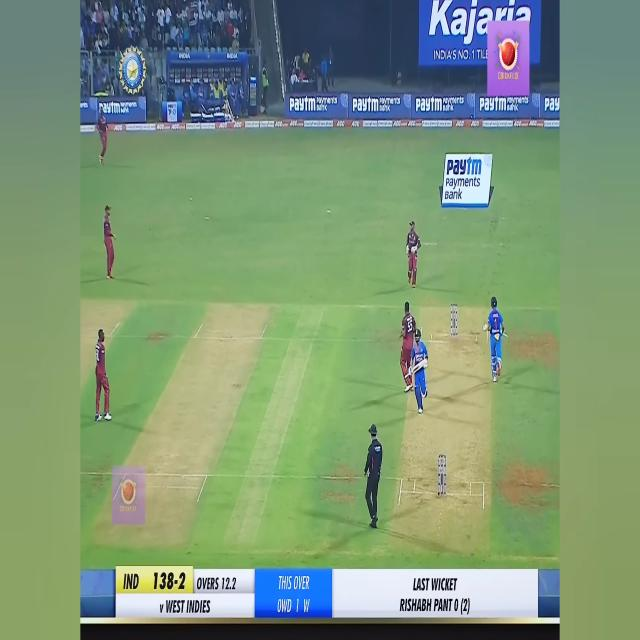fully_visible: (446, 148, 482, 178), (288, 91, 318, 117), (350, 93, 379, 118), (414, 93, 442, 117), (480, 97, 507, 118)
partially_visible: (97, 94, 124, 120)
